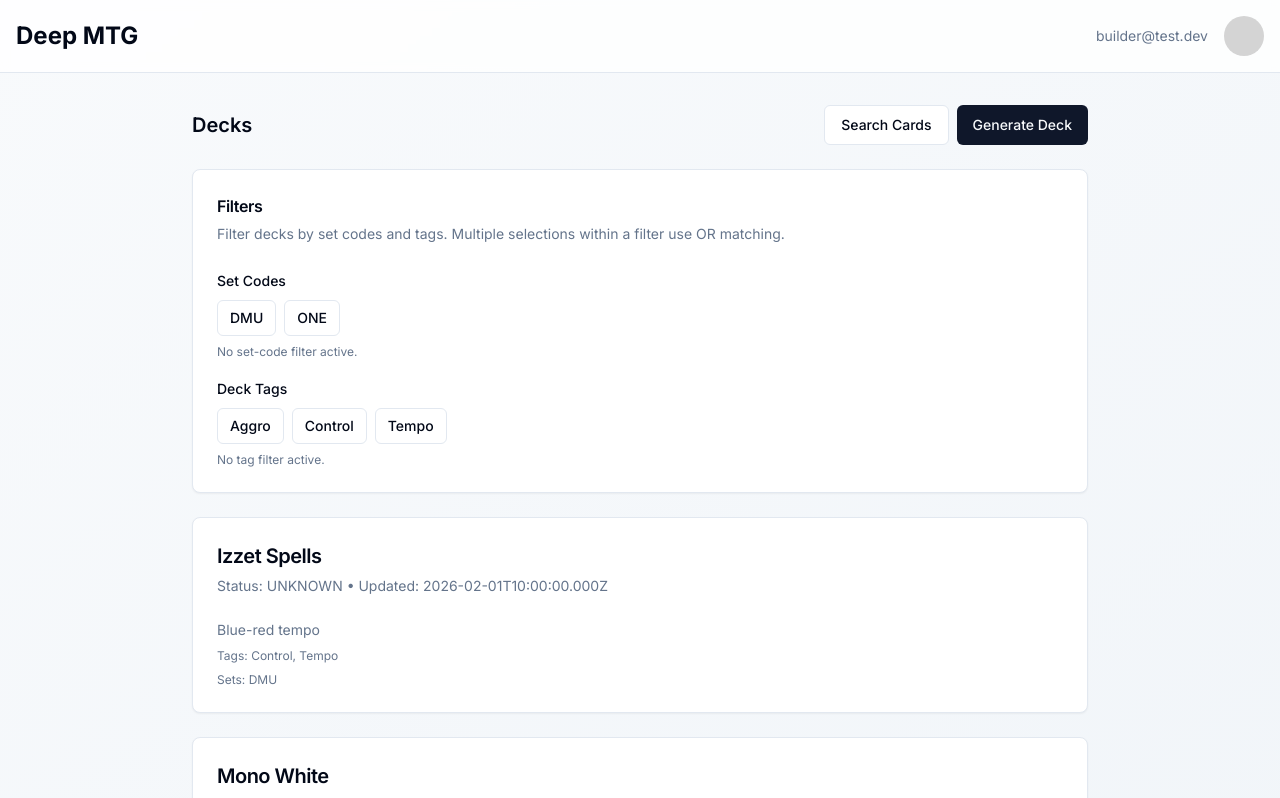
DashboardPage › filters decks by selected deck tags using OR logic
Expected: the heading "Izzet Spells" is shown, x1=217 y1=544 x2=322 y2=568
Click the button "Control". click: (329, 426)
box: x1=292 y1=408 x2=367 y2=444
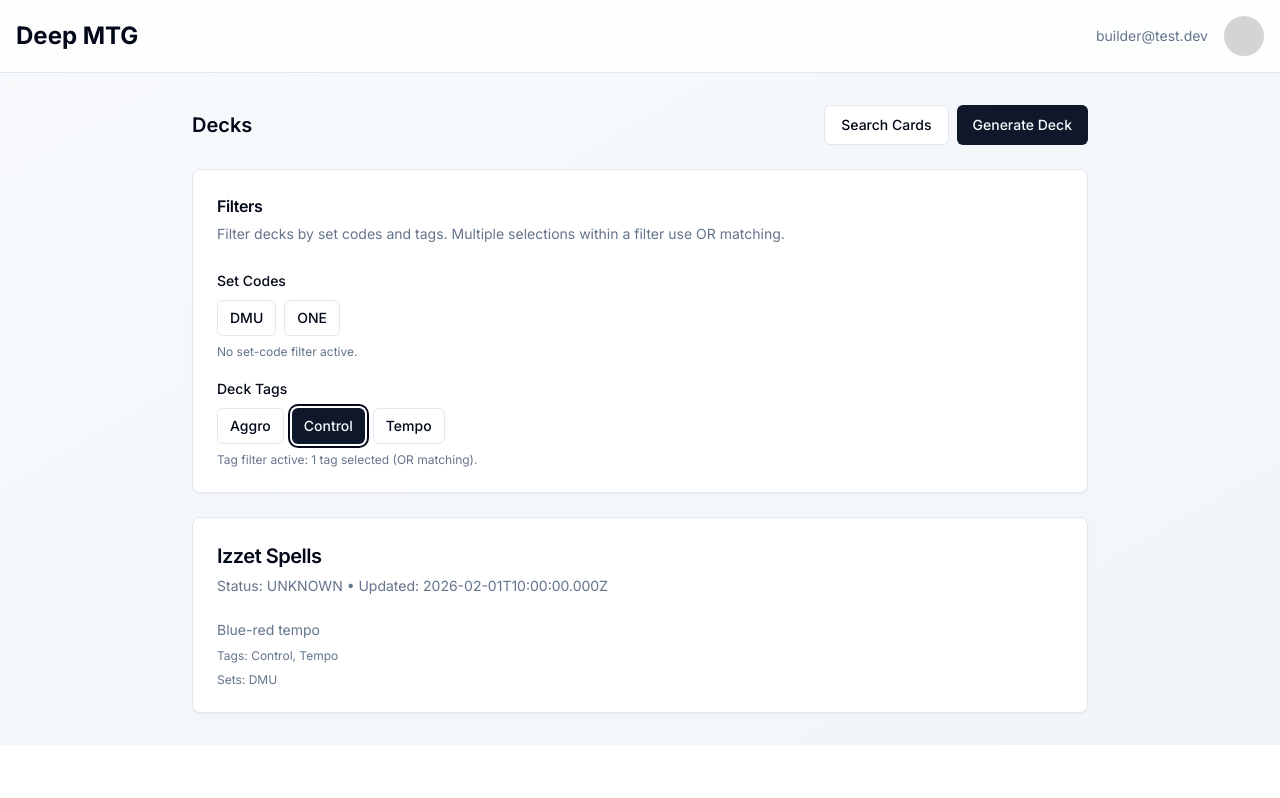
Expected: the heading "Izzet Spells" is shown, x1=217 y1=544 x2=322 y2=568
Result: the heading "Mono White" is gone
Click the button "Aggro". click: (250, 426)
box: x1=217 y1=408 x2=284 y2=444
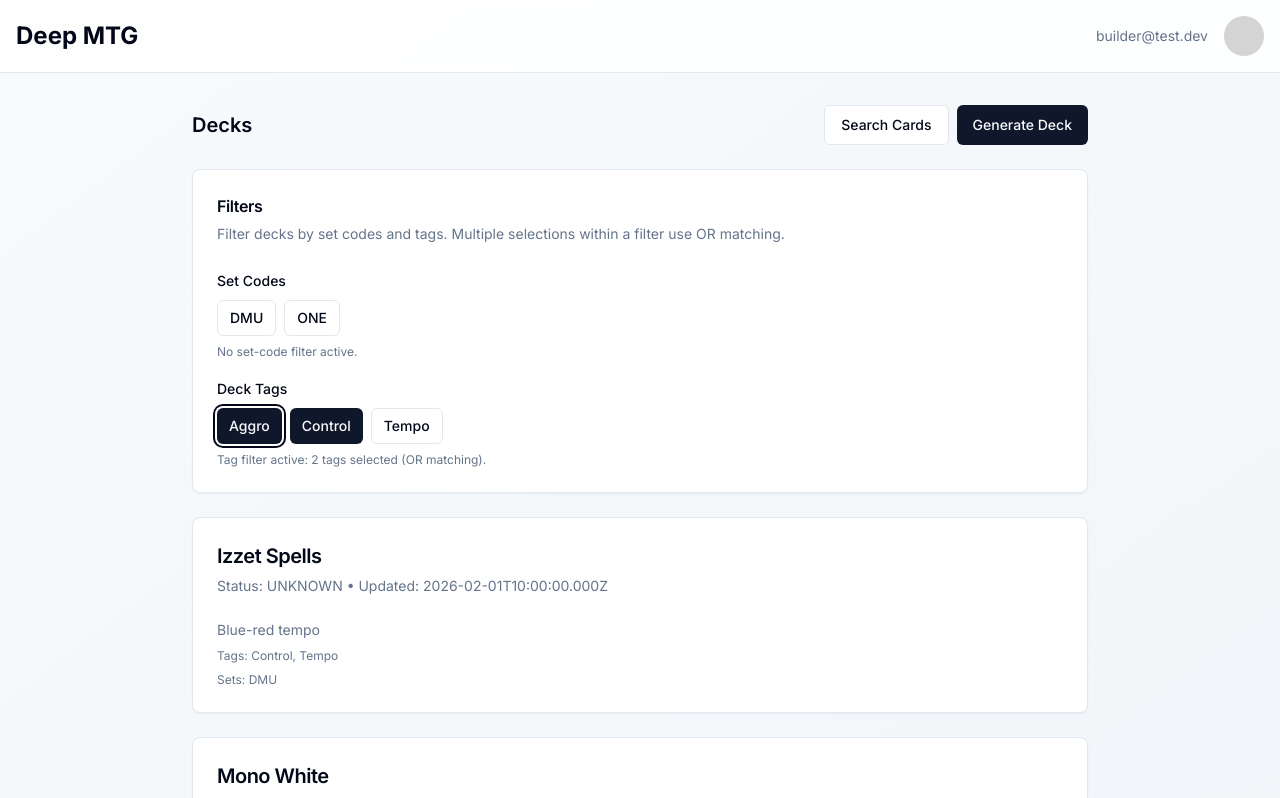
Expected: the heading "Izzet Spells" is shown, x1=217 y1=544 x2=322 y2=568
Result: the heading "Mono White" is shown at x1=217 y1=764 x2=329 y2=788
